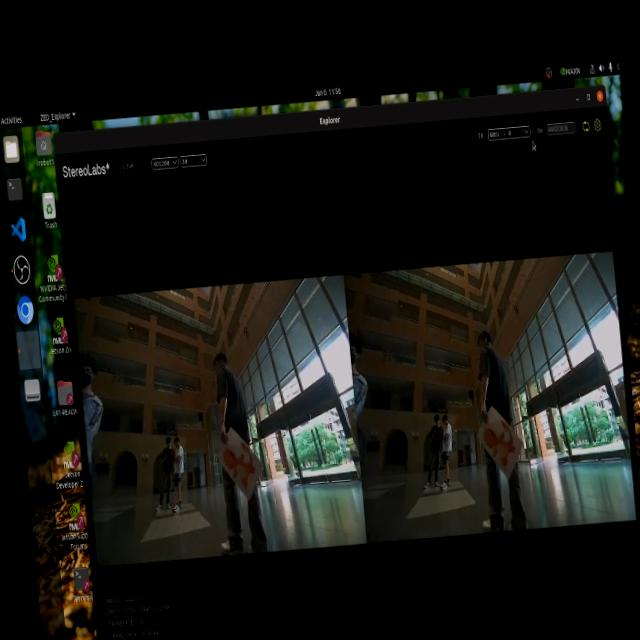red: (475, 409, 526, 478), (218, 432, 264, 497)
